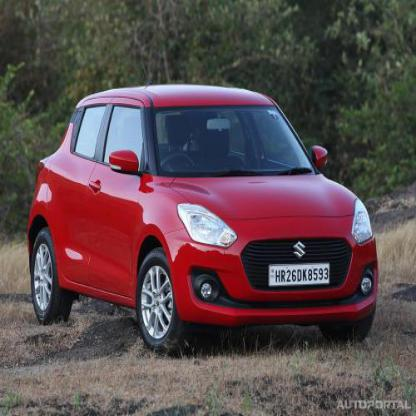car: (29, 86, 377, 352)
